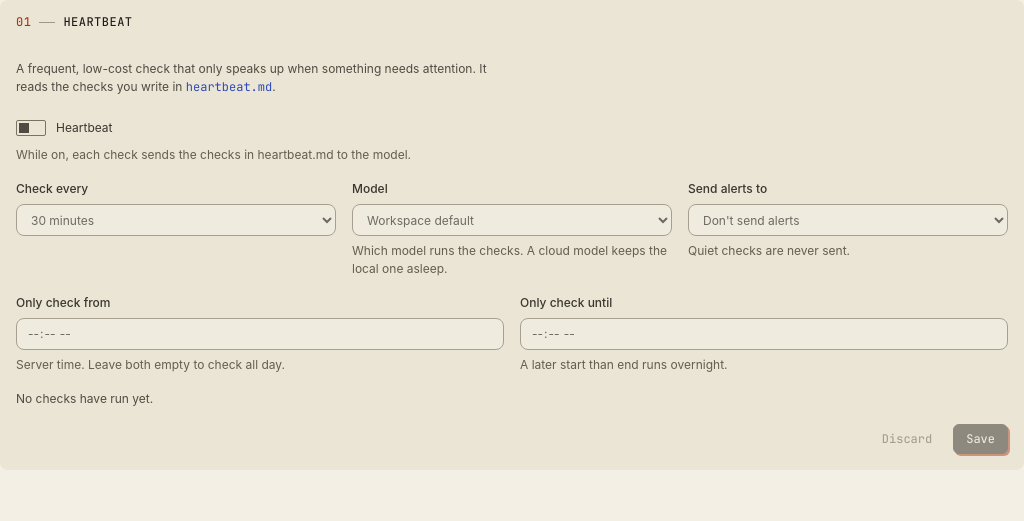
Test: HeartbeatPanel › says why a save failed and keeps the edits
Step 1. Click the switch labelled "Heartbeat" → point(64, 128), box x1=16 y1=119 x2=112 y2=137
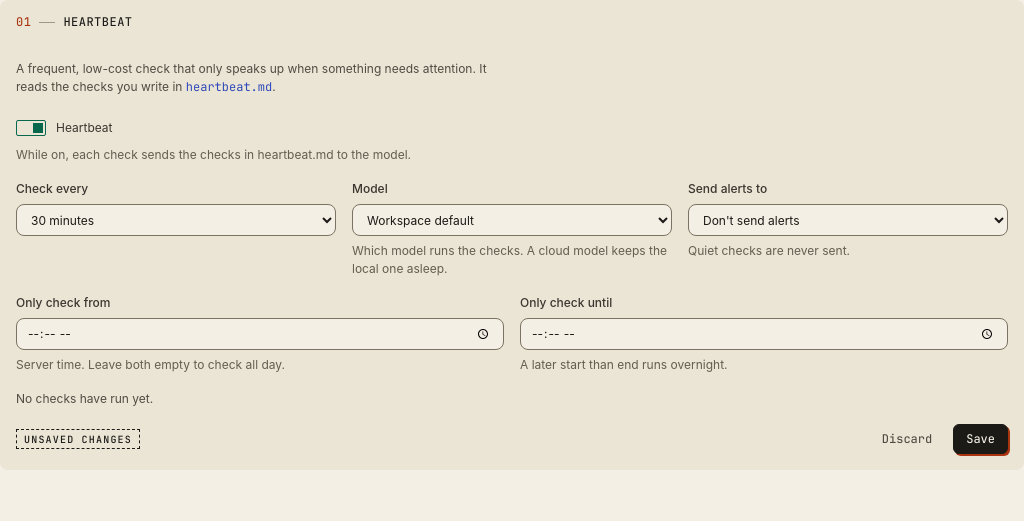
Step 2. Click the button "Save" → point(981, 439), box x1=953 y1=424 x2=1008 y2=454
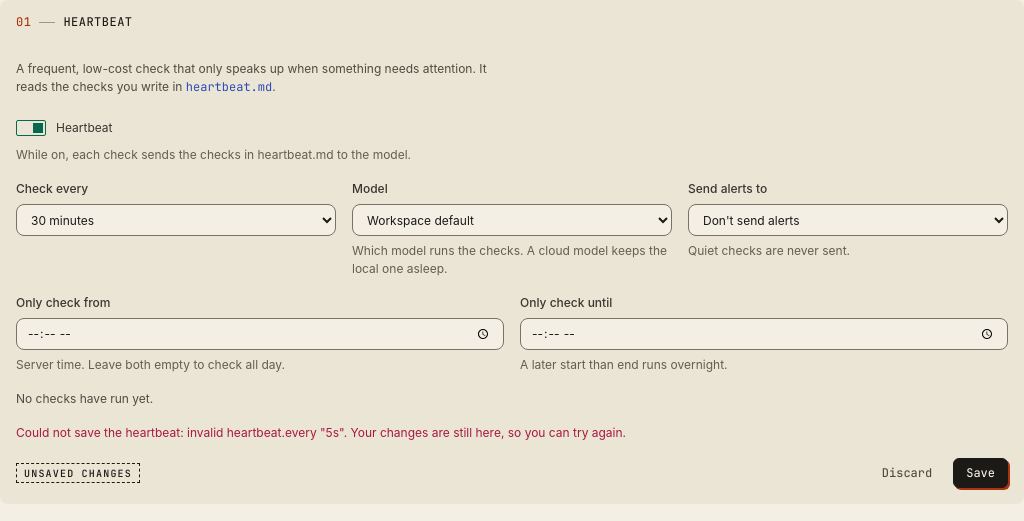
Check: the switch labelled "Heartbeat" is checked, box x1=16 y1=119 x2=112 y2=137
Check: the text "Unsaved changes" is shown, box x1=16 y1=463 x2=140 y2=483
Check: the message shows "invalid heartbeat.every", box x1=16 y1=425 x2=626 y2=440
